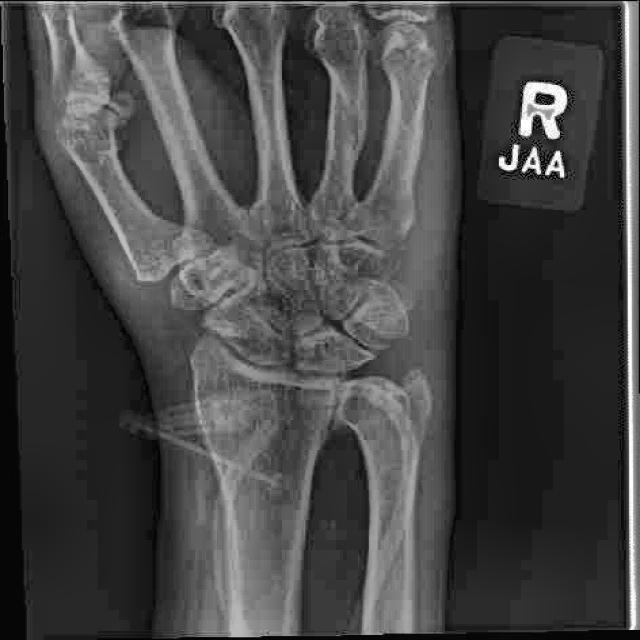wrist positive: (382, 343, 450, 437)
